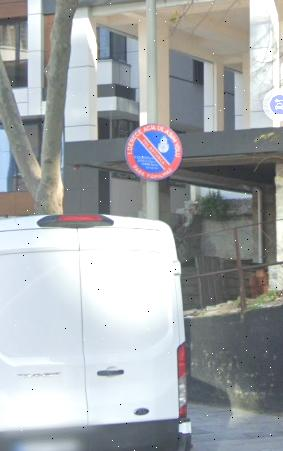nopark: (123, 125, 192, 182)
